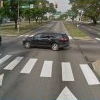crosswalk: (0, 53, 99, 84), (19, 34, 34, 37)
